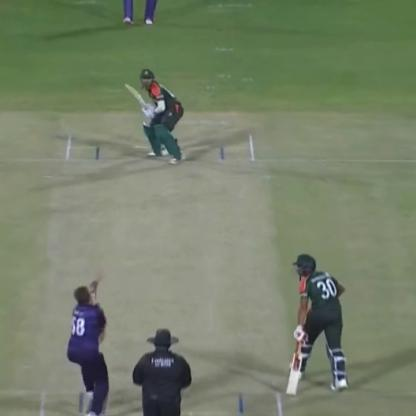bat: (118, 80, 154, 124), (286, 330, 302, 399)
pitch: (34, 130, 294, 414)
